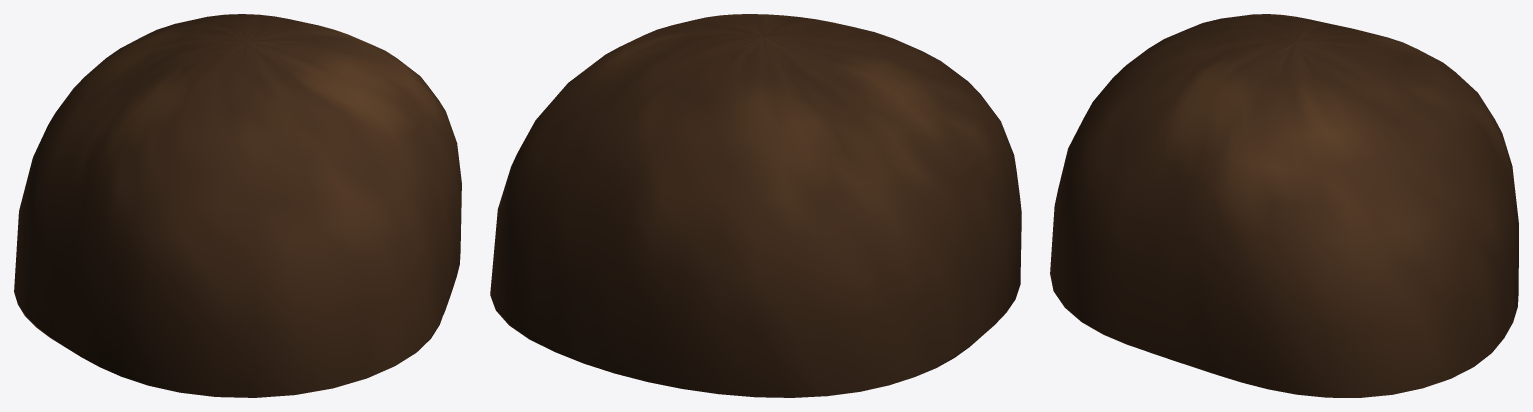
Rendered from turtle-prop-mound.glb.
The picture shows the model from 3 angles, left to right: view 1: azimuth 30°, elevation 25°; view 2: azimuth 150°, elevation 25°; view 3: azimuth 270°, elevation 25°; orthographic projection. The views are drawn at different scales.
Parts seen in each view (by area): view 1: turtle-prop-mound; view 2: turtle-prop-mound; view 3: turtle-prop-mound.
Boxes of the visible parts, box(x1,y1,x2,y2) form: turtle-prop-mound: box(14, 14, 461, 397); turtle-prop-mound: box(490, 14, 1021, 397); turtle-prop-mound: box(1050, 14, 1518, 397).
Size of the model in its own units: 0.0663 by 0.038 by 0.0647.
